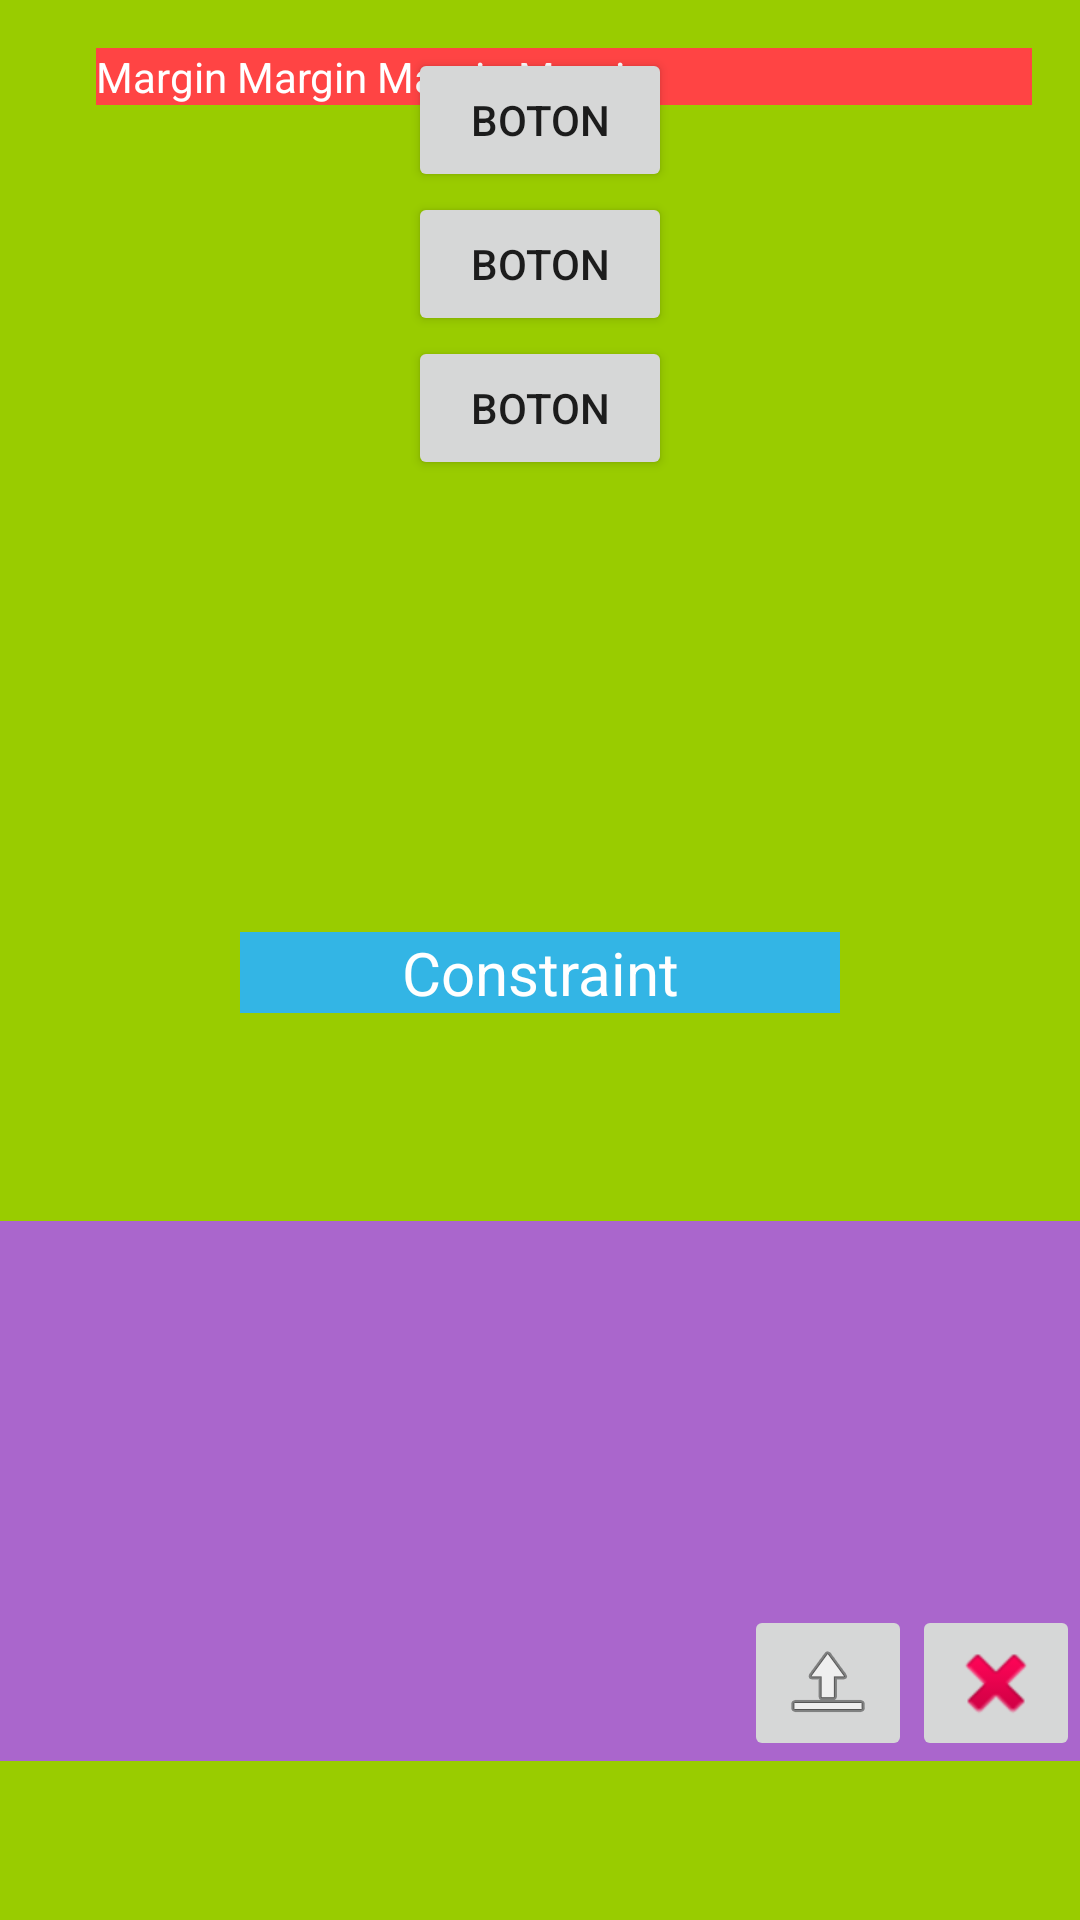

Icons on this 1080 × 1920 Android screen, each with the point to tap as point (x, y):
delete: point (996, 1683)
upload: point (828, 1683)
